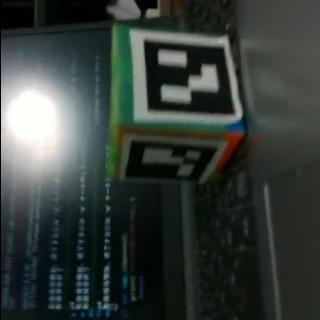armor: (128, 33, 240, 123), (116, 137, 222, 185)
robot: (105, 20, 247, 186)
